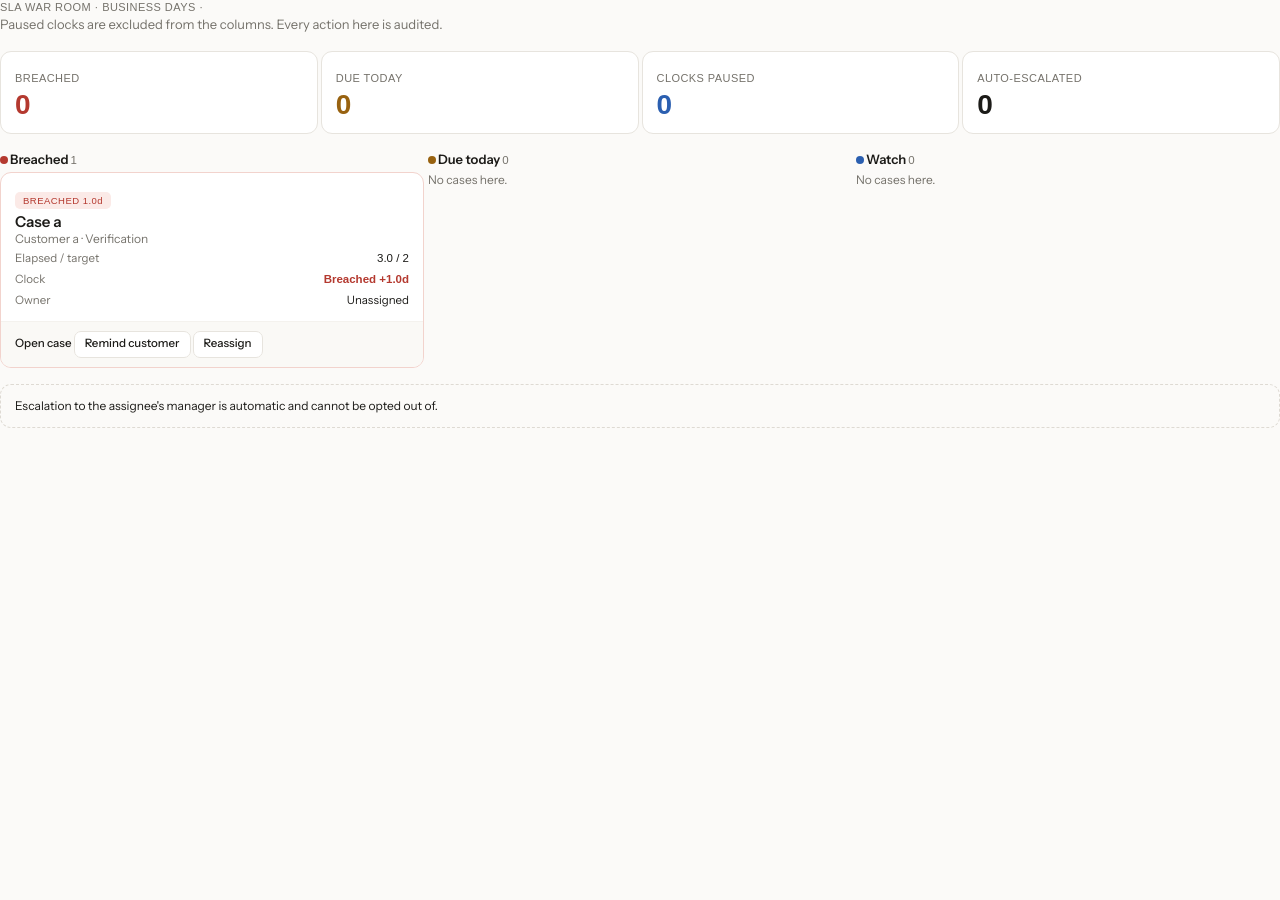
Test: SLA war room page › card actions › Reassign opens the reassign dialog for that case
Click the button "Reassign".
click(228, 344)  # box 192,331 -> 262,358
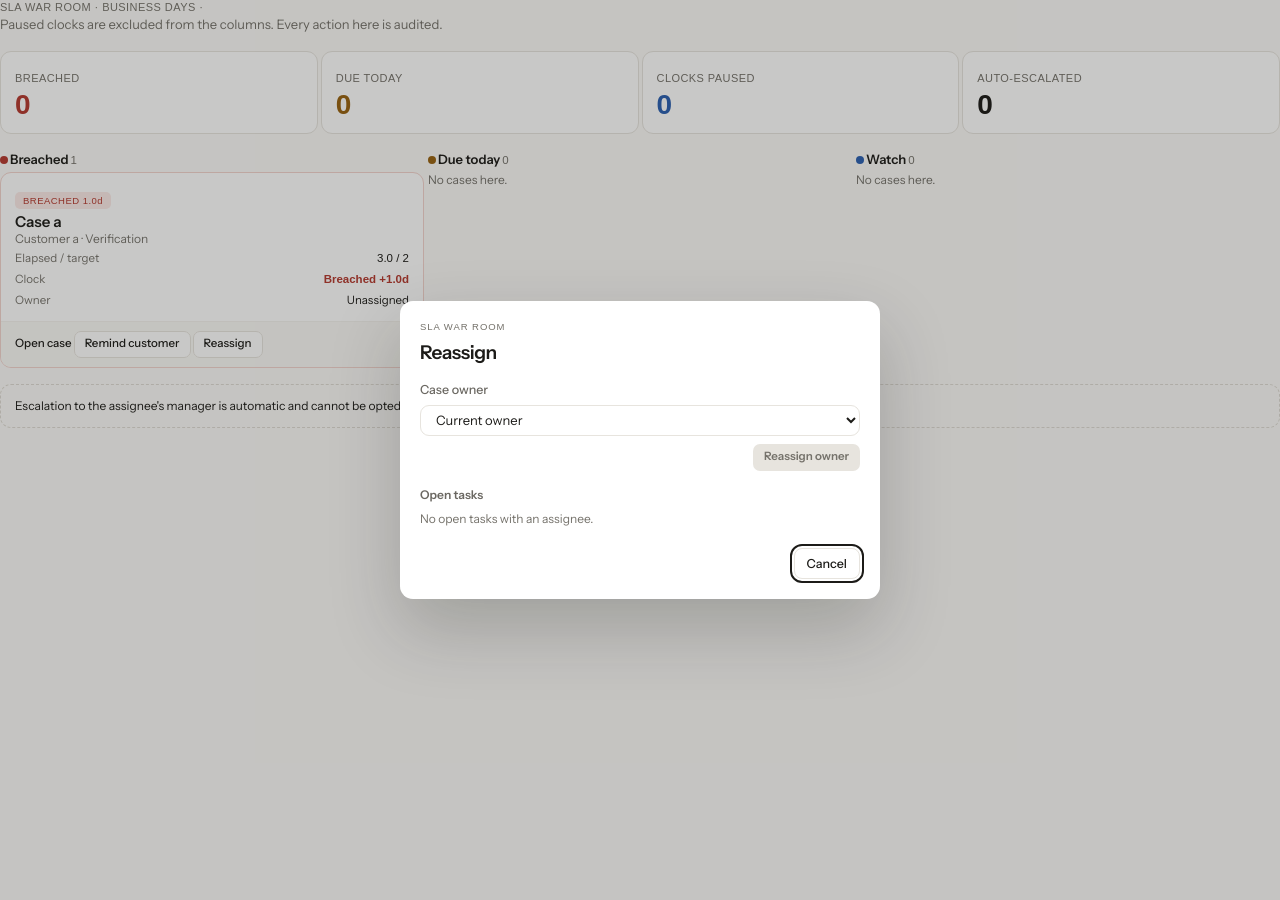
expect the dialog "Reassign" is shown: met, box 400,301 -> 880,599
expect the dropdown labelled "Case owner" is shown: met, box 420,404 -> 860,436
